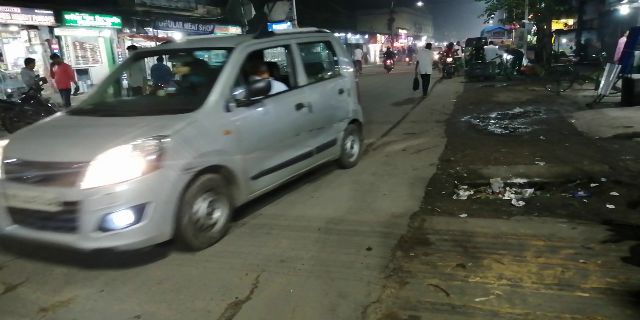Car: (2, 30, 375, 258)
